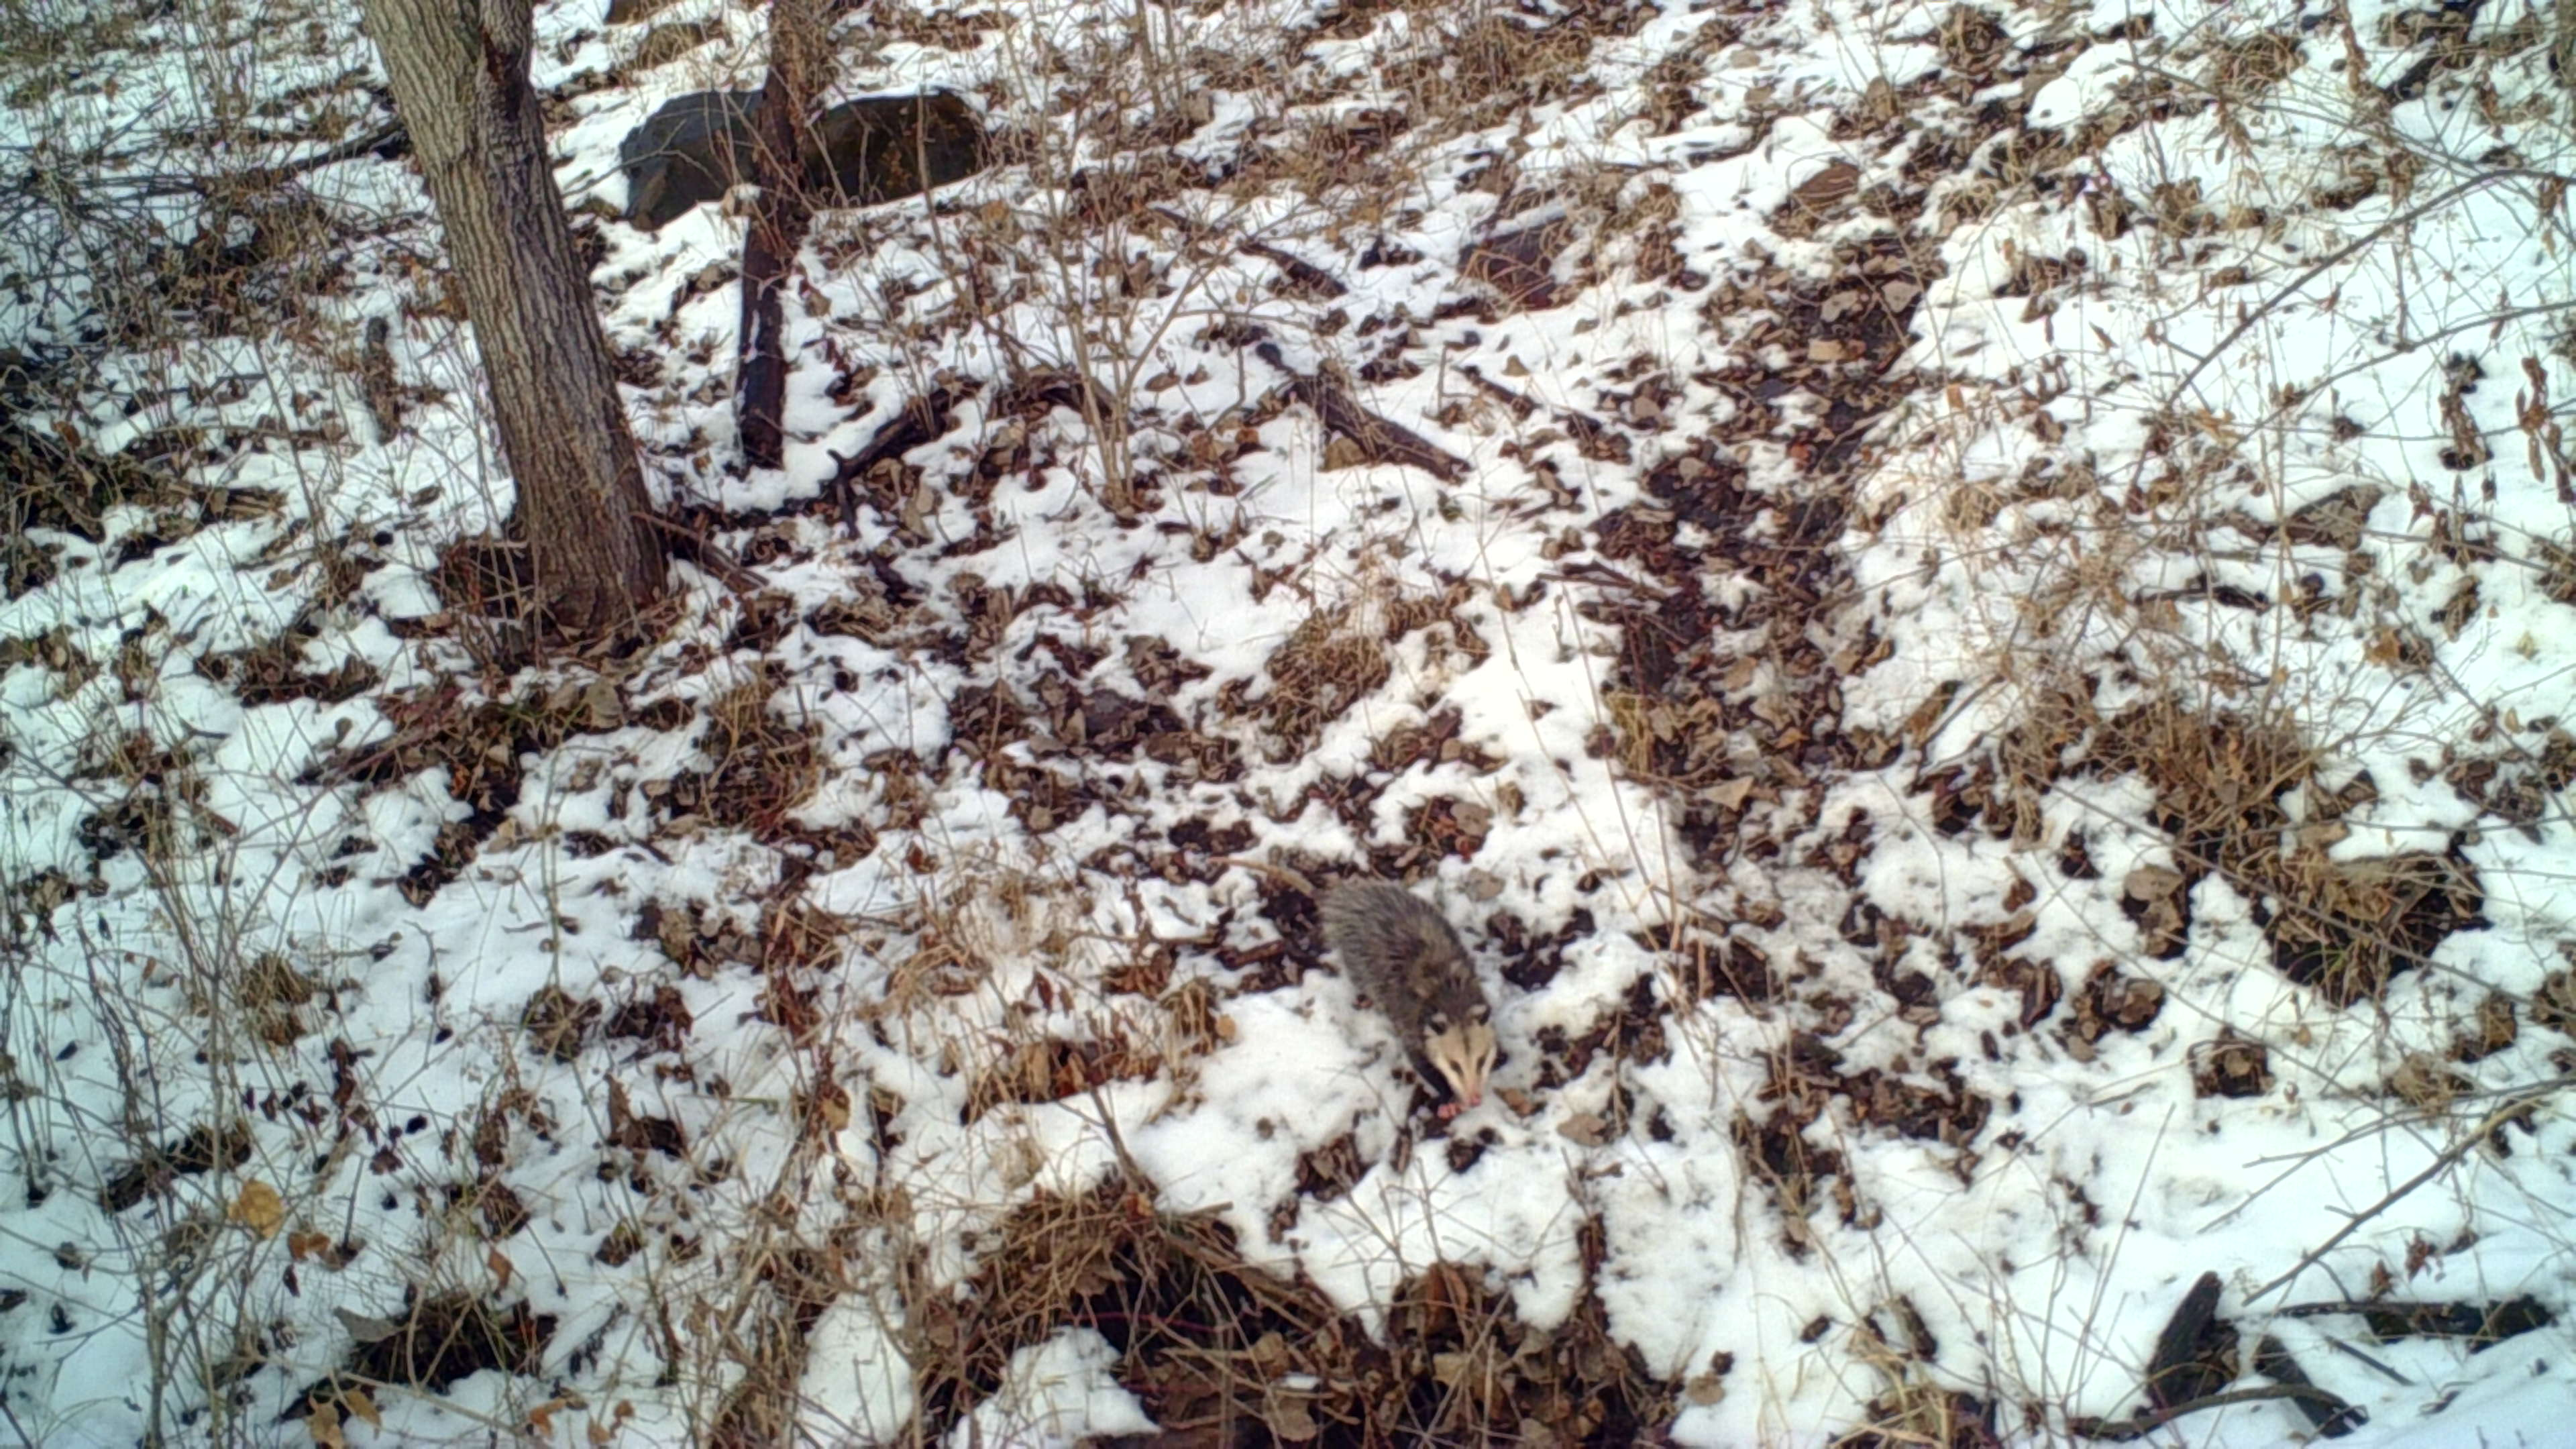Possum: (1203, 853, 1507, 1111)
